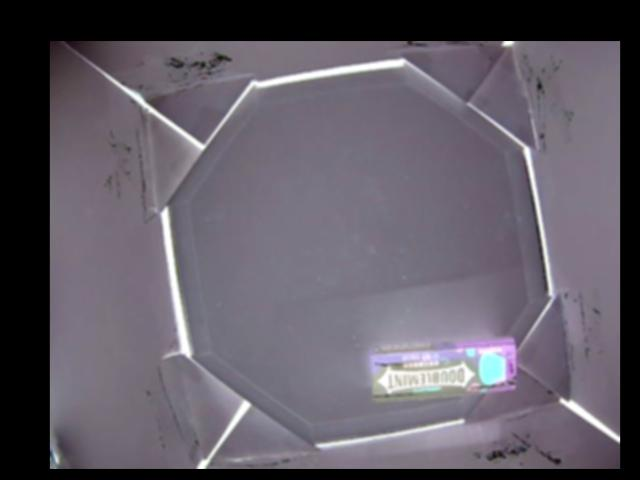Bottle: (370, 335, 520, 397)
